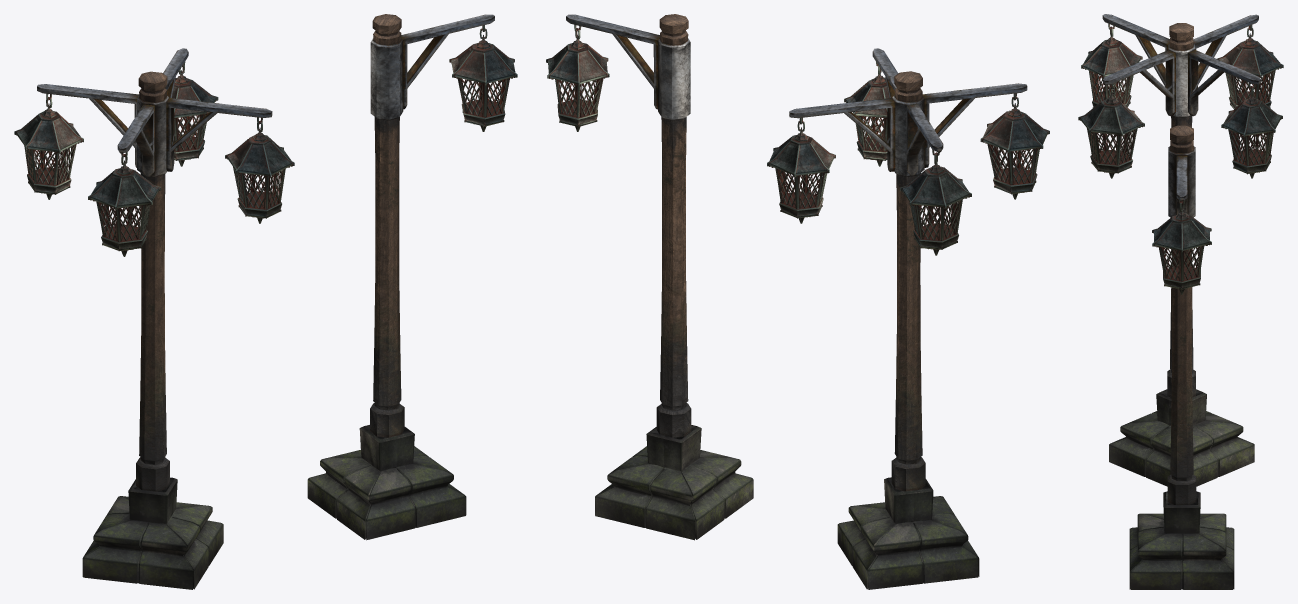
Rendered from lanterns.fbx.
3 renders of one model, left to right at view 1: azimuth 30°, elevation 25°; view 2: azimuth 150°, elevation 25°; view 3: azimuth 270°, elevation 25°, orthographic. The views are drawn at different scales.
Visible parts, largest first — view 1: lantern.001, lantern.002; view 2: lantern.001, lantern.002; view 3: lantern.001, lantern.002.
Boxes of the visible parts, <box> form: lantern.001: <box>14,48,294,589</box>; lantern.002: <box>307,14,517,540</box>; lantern.001: <box>767,48,1049,589</box>; lantern.002: <box>546,14,753,540</box>; lantern.001: <box>1078,14,1283,486</box>; lantern.002: <box>1129,125,1234,589</box>.
Size of the model in its own units: 3.34 by 3.38 by 1.43.
